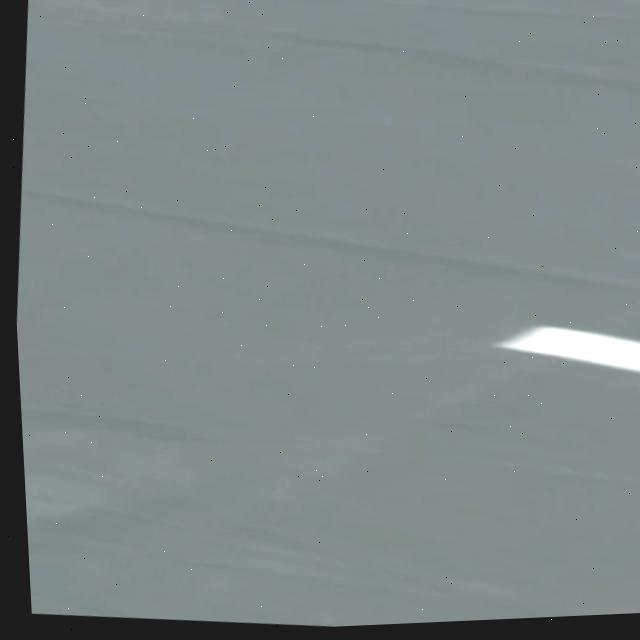center: (495, 326, 640, 373)
